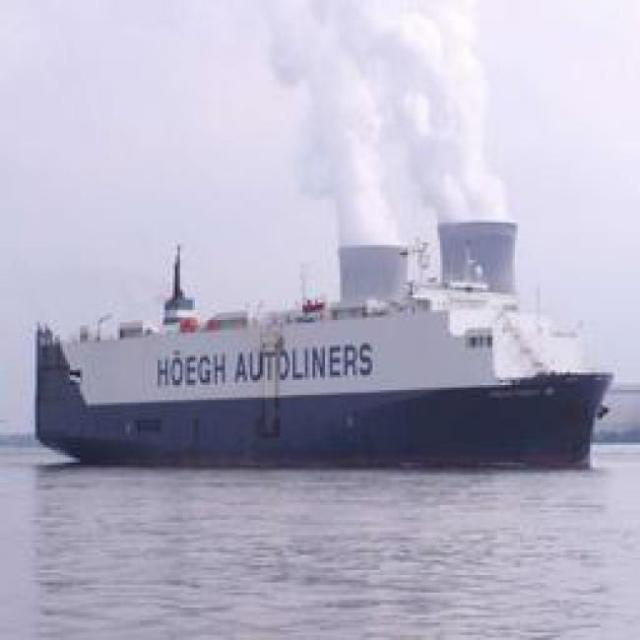boat: (22, 292, 619, 484)
